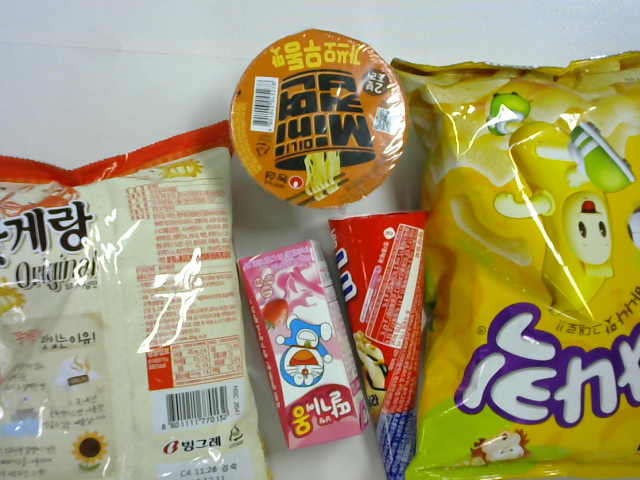Banana_Kick: (390, 43, 639, 479)
Crabrang: (1, 122, 273, 479)
Strawberry_E_Mong: (239, 241, 373, 449)
Udongmini: (228, 27, 408, 210)
World_Cone_Banila: (329, 208, 428, 480)
